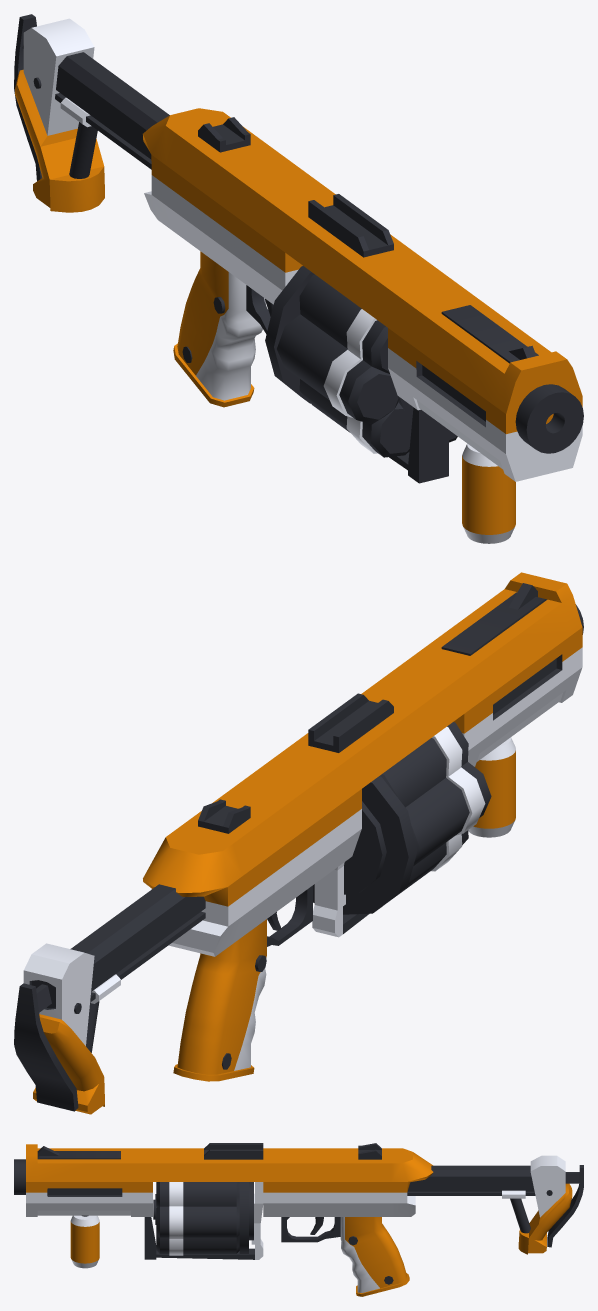
File: machinegun1.fbx
3 views of the same model, one above another, from view 1: azimuth 30°, elevation 25°; view 2: azimuth 150°, elevation 25°; view 3: azimuth 270°, elevation 25° (orthographic). The views are drawn at different scales.
Visible parts, largest first — view 1: mergedBlocks; view 2: mergedBlocks; view 3: mergedBlocks.
Part boxes in pixels (x1,y1,x2,y2): mergedBlocks: (14, 14, 583, 543); mergedBlocks: (14, 572, 583, 1114); mergedBlocks: (14, 1143, 583, 1296).
Bounding box in the file's own units: 7.79 × 13.52 × 48.
